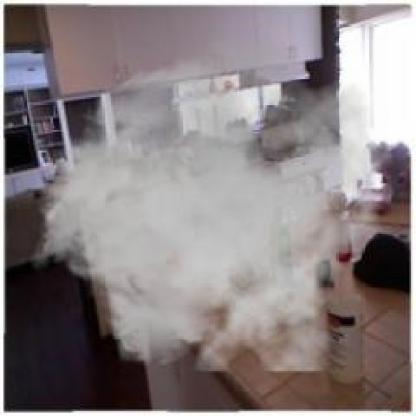Smoke: (28, 31, 395, 371)
